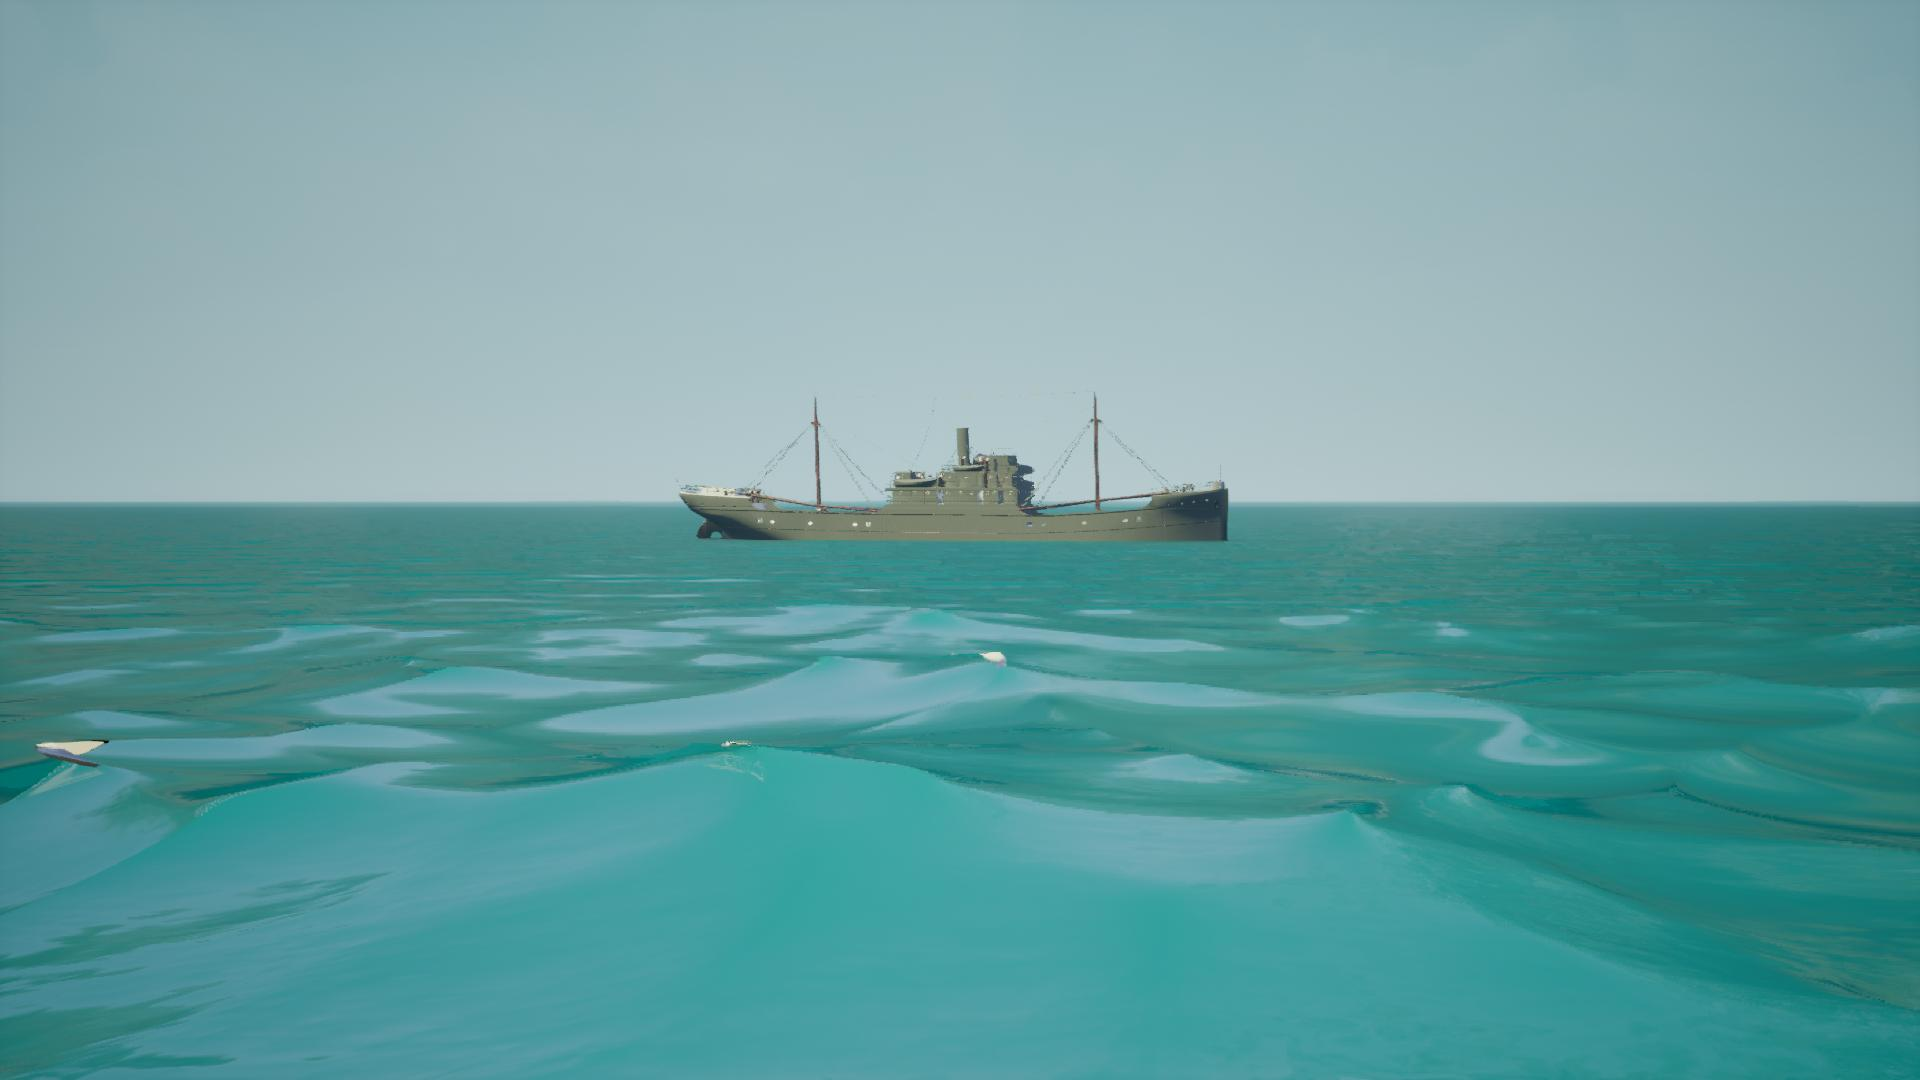Fishing Boat: (680, 393, 1233, 545)
